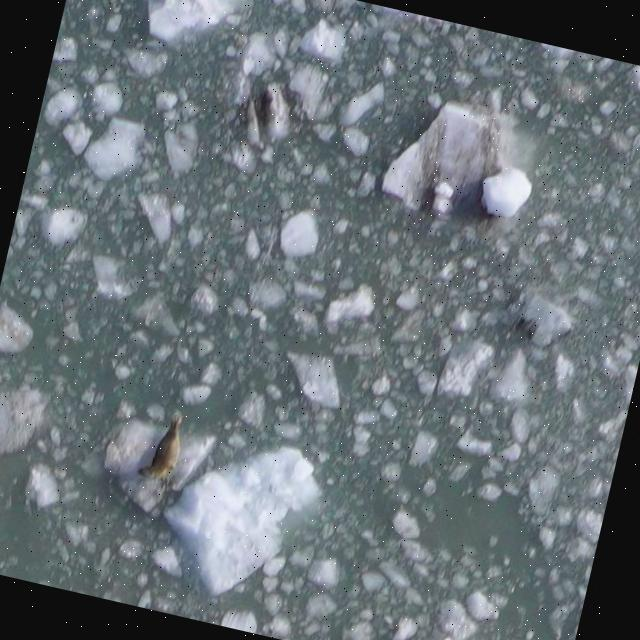seal: (134, 406, 201, 490)
